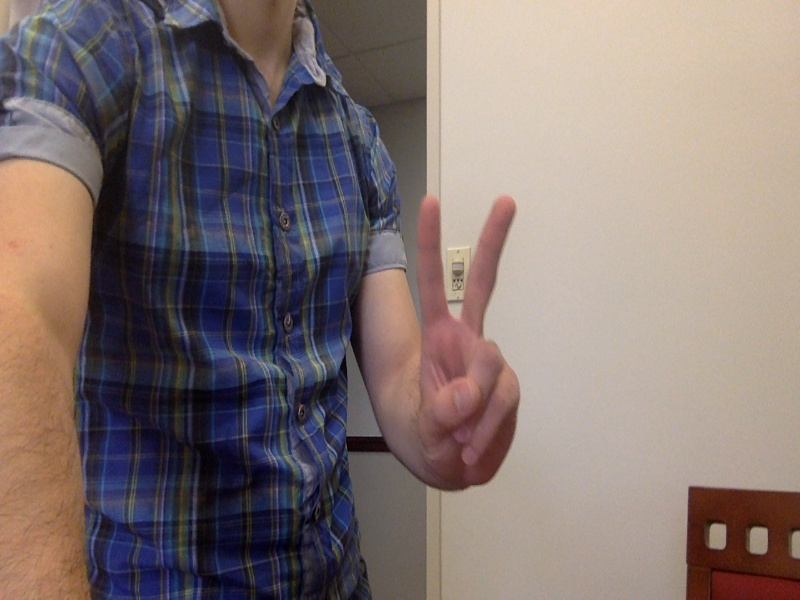2-hand: (414, 193, 529, 493)
